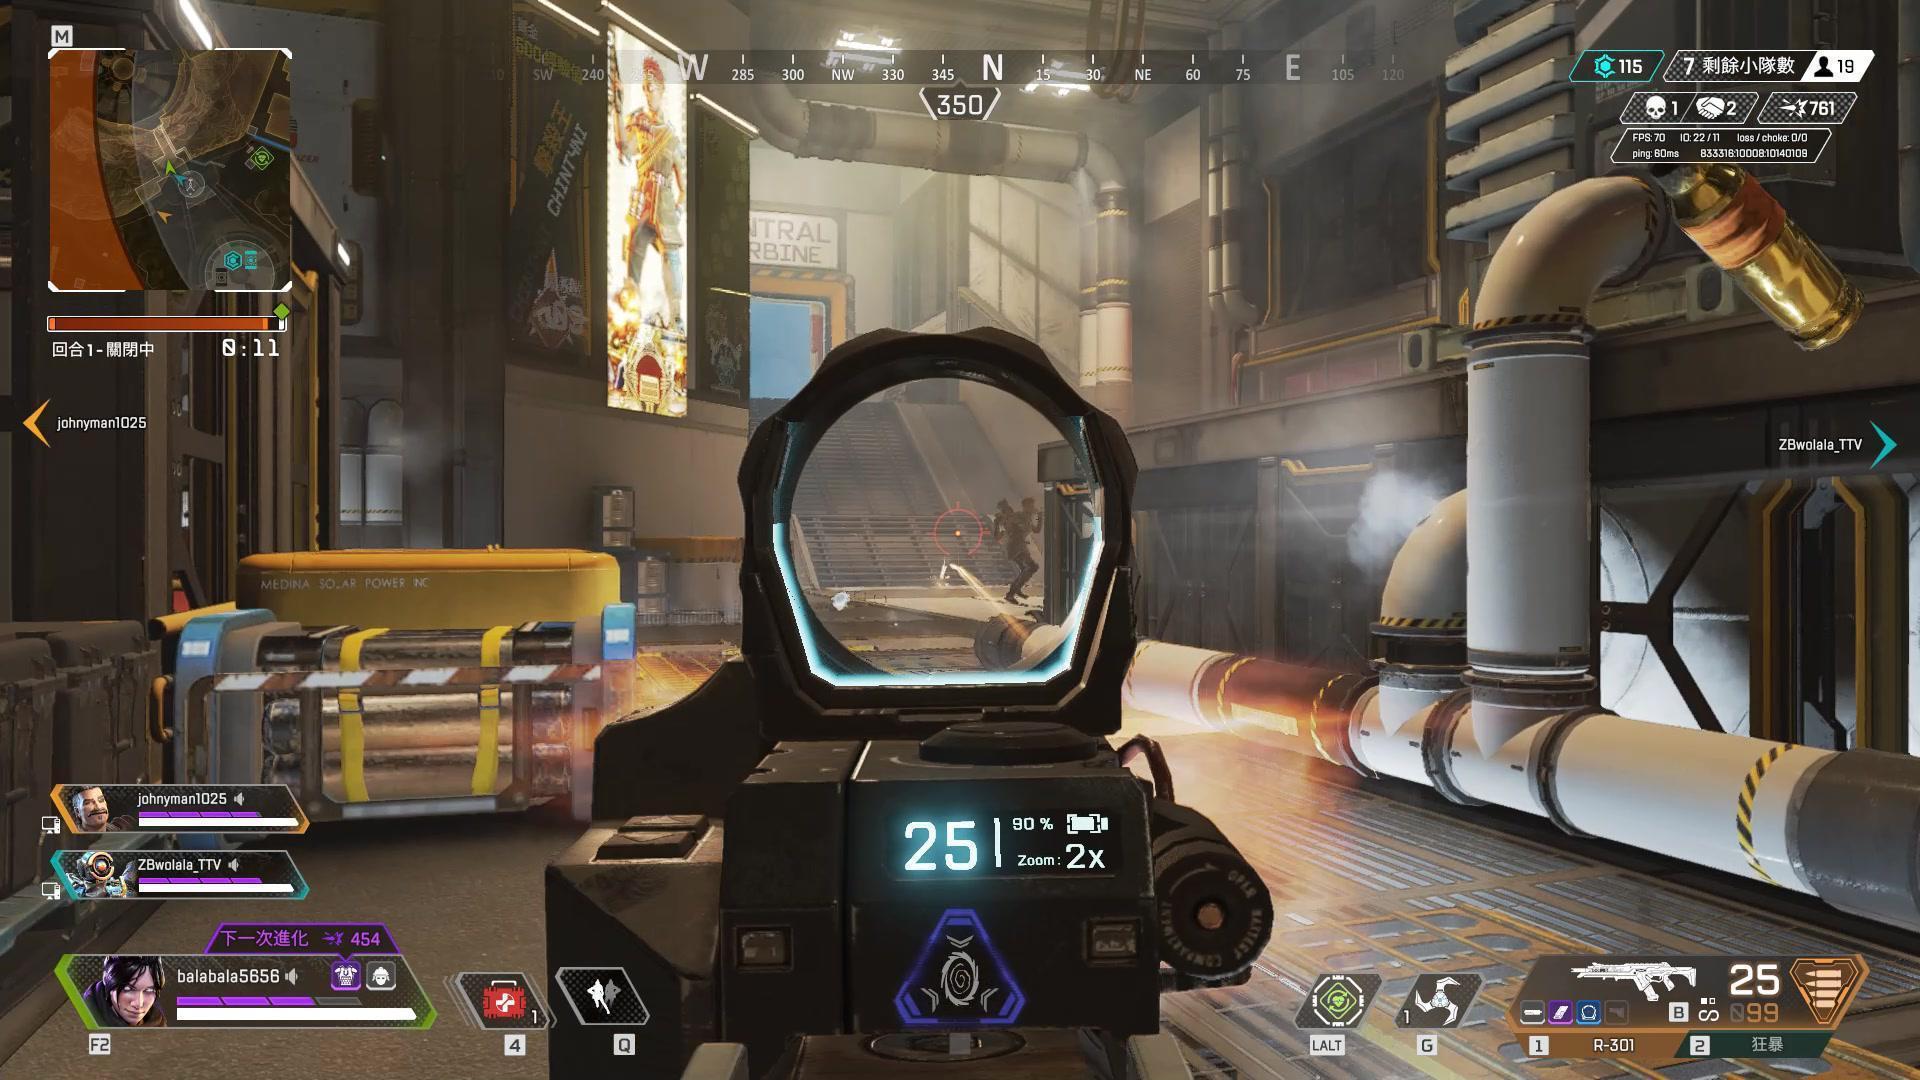avatar: (992, 494, 1043, 607)
